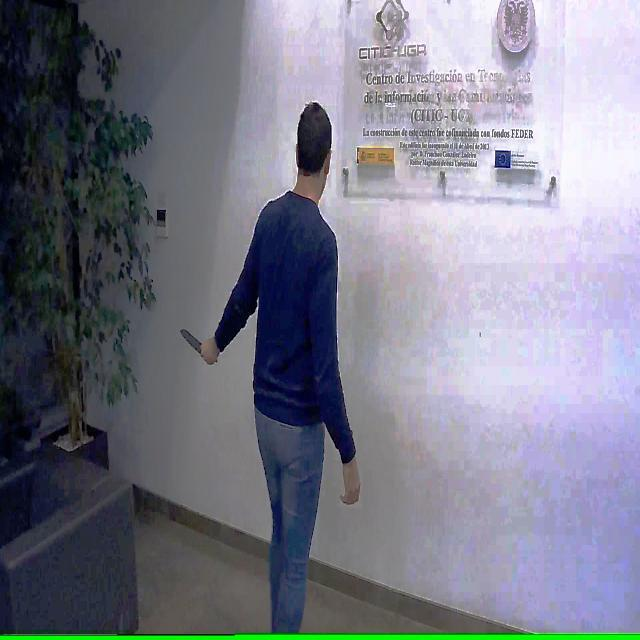Knife: (176, 316, 218, 370)
